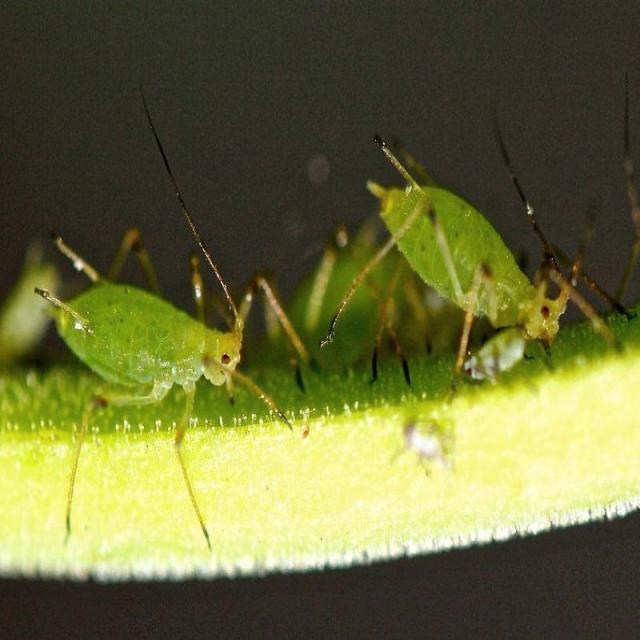Aphids: (36, 189, 314, 523), (335, 127, 623, 429)
